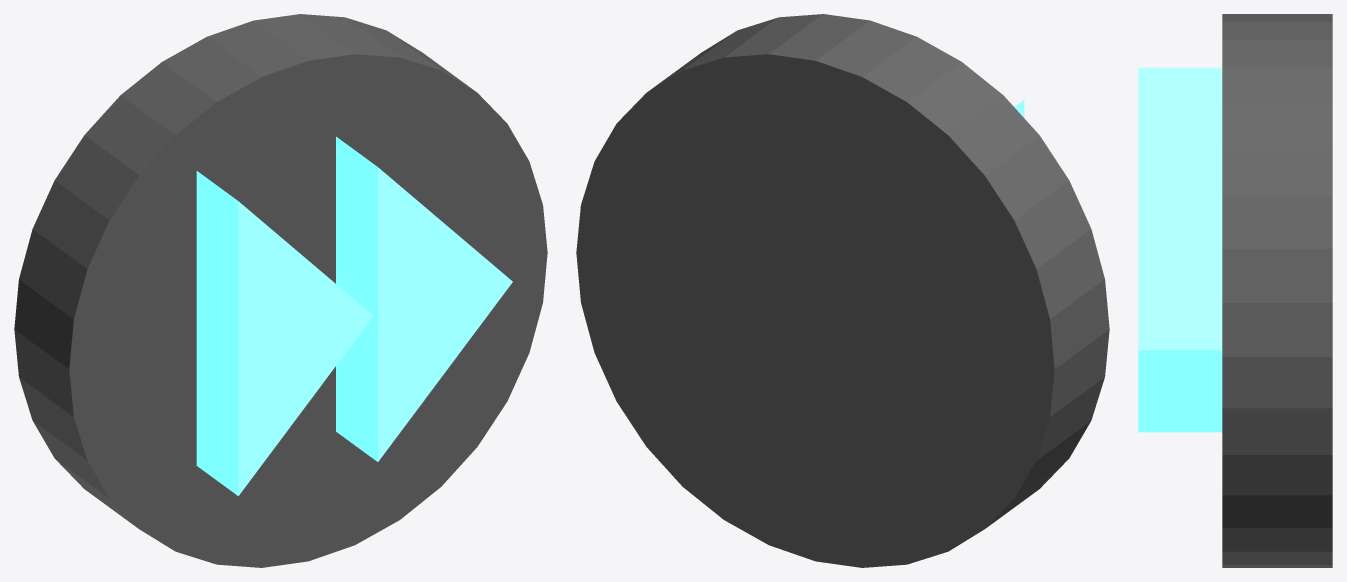
Rendered from playback_ff-rw-button.fbx.
The picture shows the model from 3 angles, left to right: view 1: azimuth 30°, elevation 25°; view 2: azimuth 150°, elevation 25°; view 3: azimuth 270°, elevation 25°; orthographic projection.
Parts seen in each view (by area): view 1: Plane.003; view 2: Plane.003; view 3: Plane.003.
Part boxes in pixels (bbox=[...]): Plane.003: bbox=[14, 14, 547, 567]; Plane.003: bbox=[576, 14, 1109, 567]; Plane.003: bbox=[1138, 14, 1332, 567].
Bounding box in the file's own units: 24.43 × 24.43 × 8.56.
